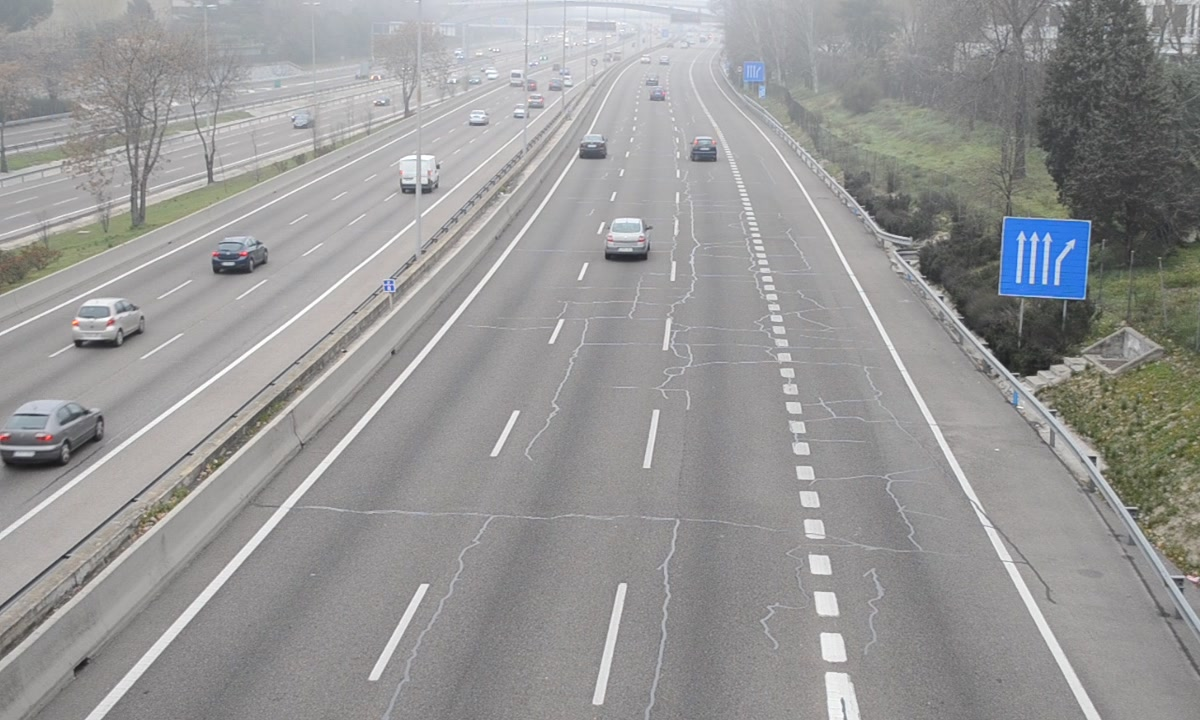car: (607, 217, 650, 258), (690, 136, 718, 163), (579, 134, 606, 160)
